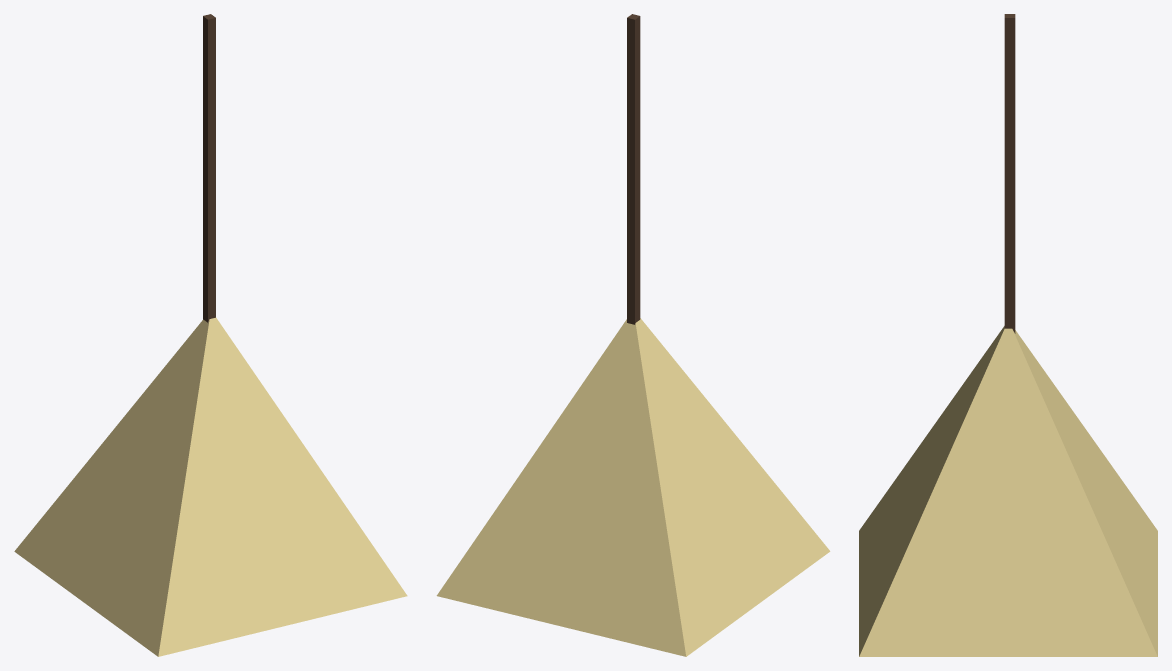
Rendered from Lampadacorreçao.fbx.
The picture shows the model from 3 angles, left to right: view 1: azimuth 30°, elevation 25°; view 2: azimuth 150°, elevation 25°; view 3: azimuth 270°, elevation 25°; orthographic projection. The views are drawn at different scales.
Parts seen in each view (by area): view 1: Luminaria 1; view 2: Luminaria 1; view 3: Luminaria 1.
Part boxes in pixels (<box>): Luminaria 1: <box>14,14,407,656</box>; Luminaria 1: <box>436,14,830,656</box>; Luminaria 1: <box>859,14,1157,656</box>.
Size of the model in its own units: 37.96 by 80.95 by 37.96.
1 material, 1 textured.
